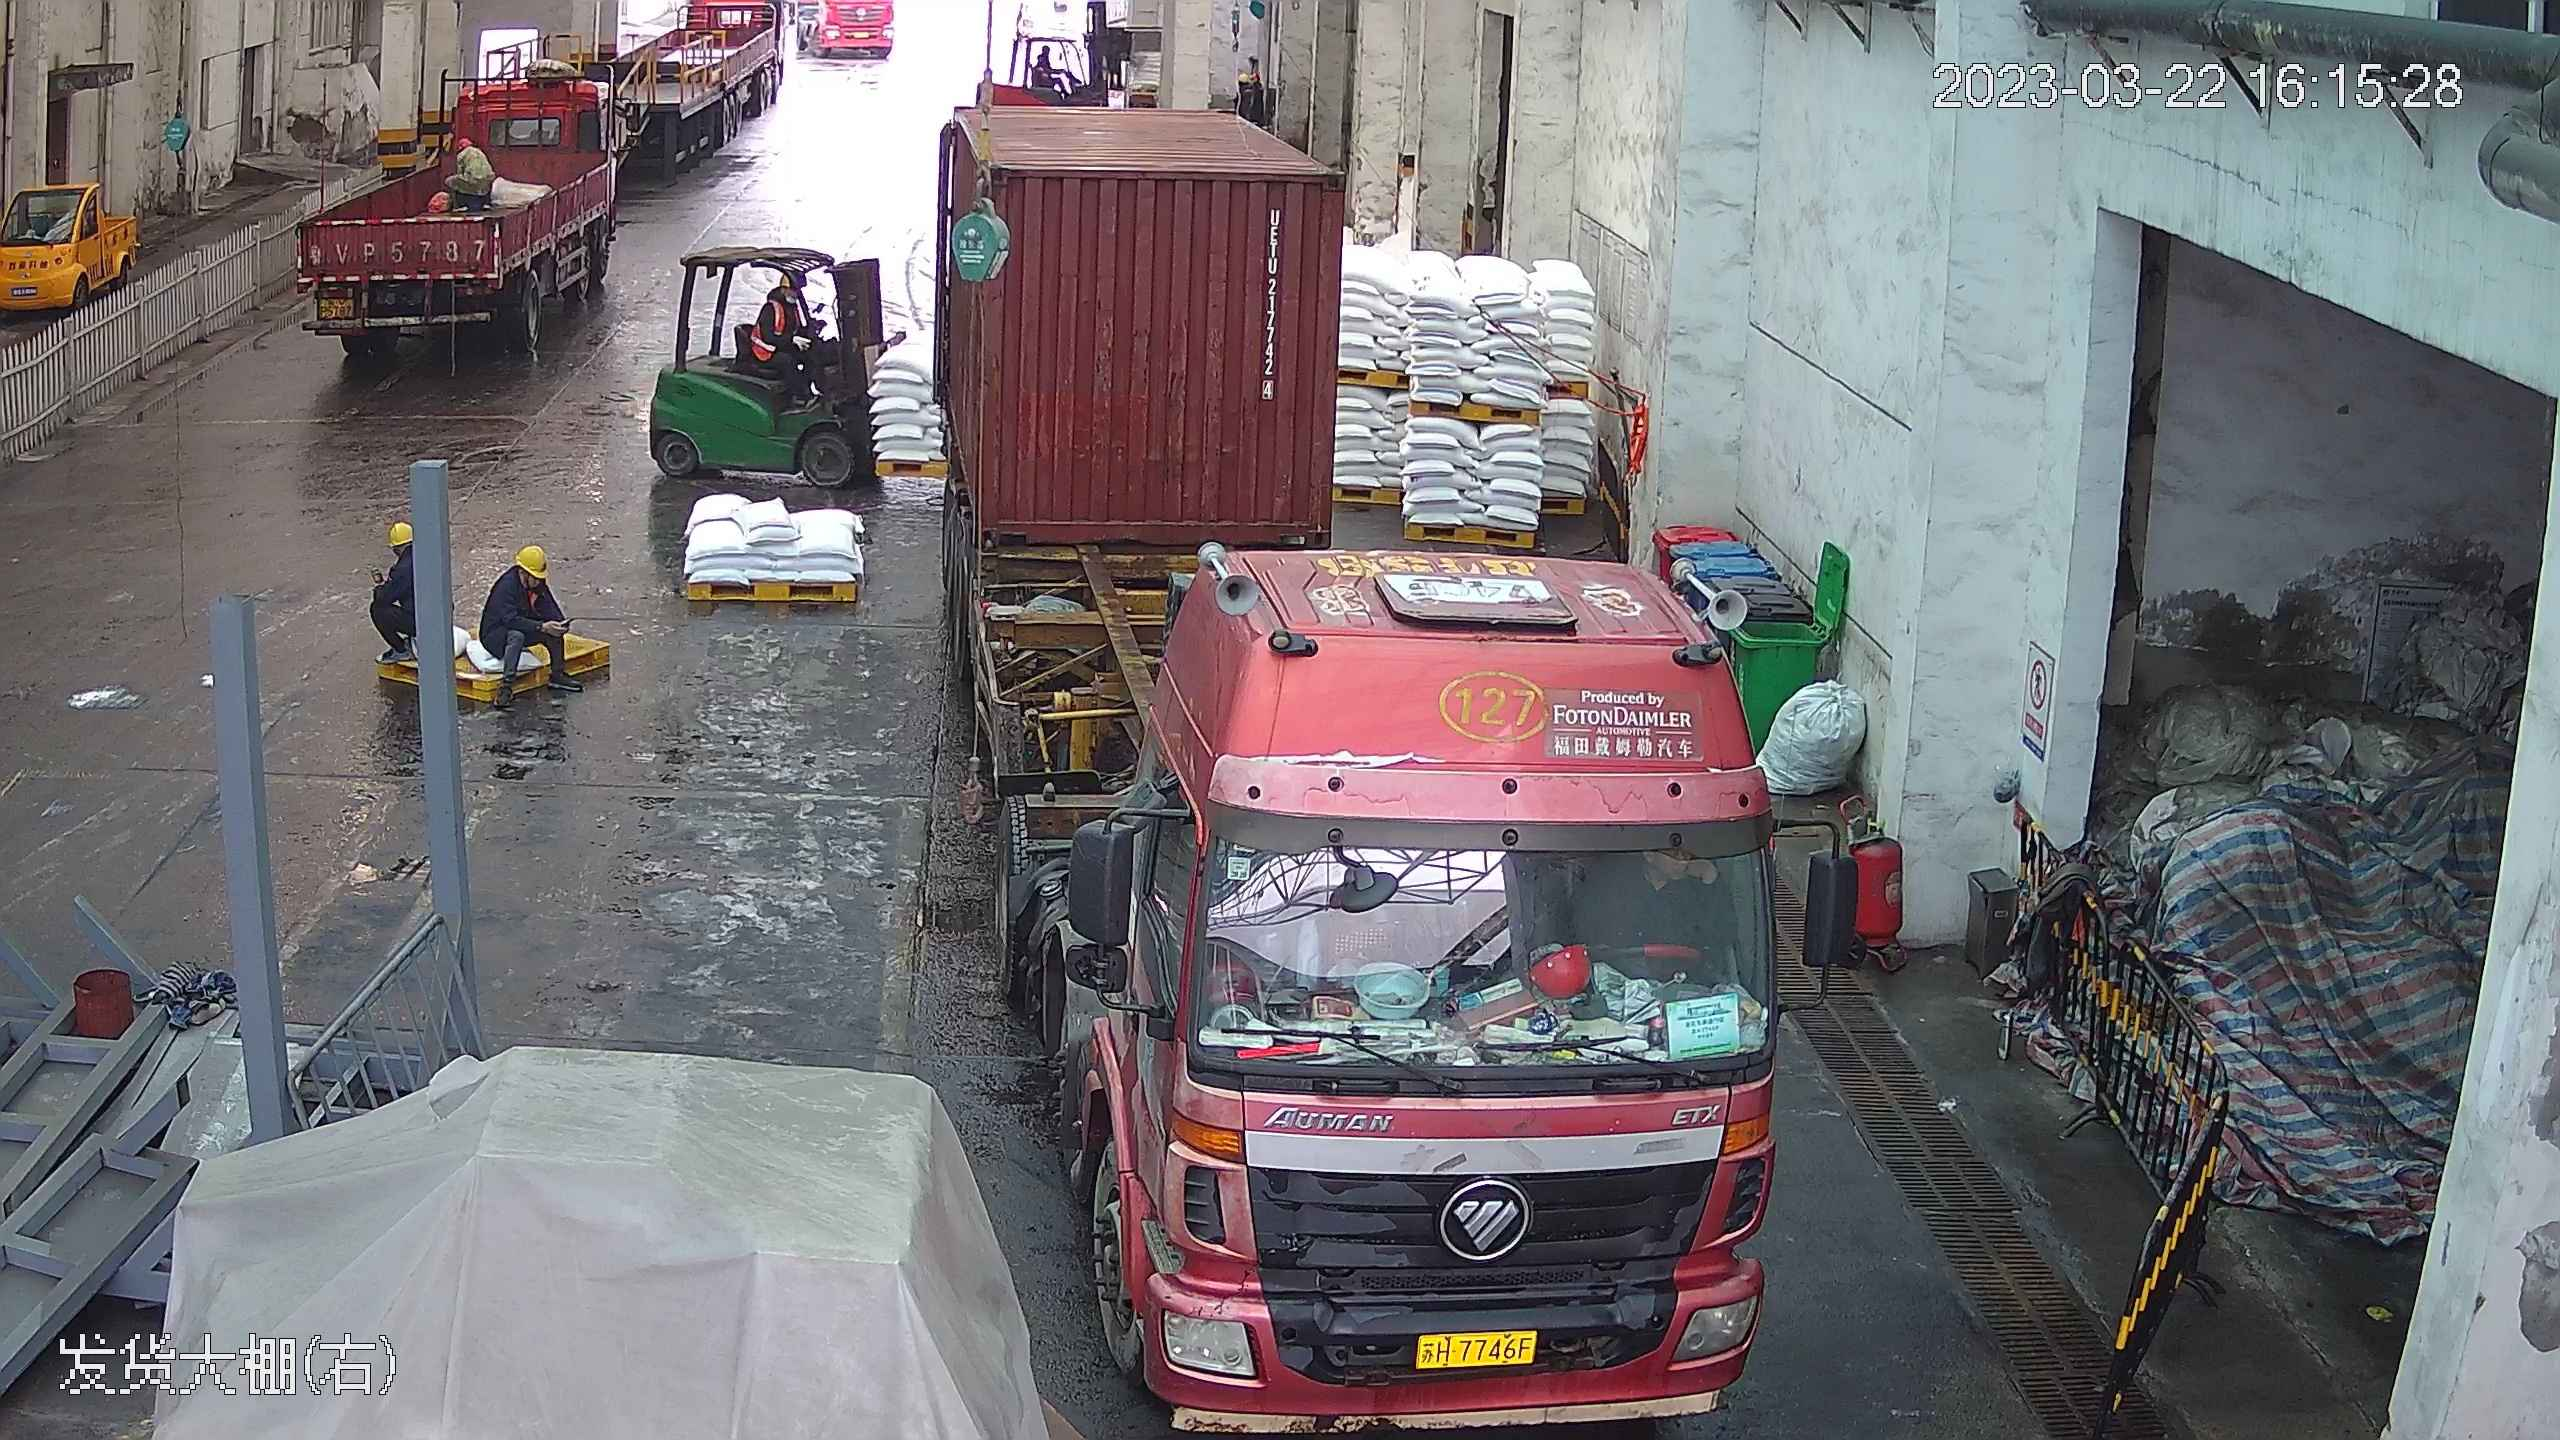head: (488, 541, 554, 606), (375, 518, 419, 587), (768, 262, 813, 313), (454, 134, 486, 167)
helmet: (514, 541, 548, 573), (778, 266, 807, 292), (387, 517, 415, 544), (456, 137, 472, 150)
people: (477, 538, 562, 702), (757, 262, 841, 394), (367, 515, 423, 687), (442, 133, 495, 211), (372, 517, 419, 594)
truck: (936, 8, 1811, 1435), (279, 8, 657, 350)
